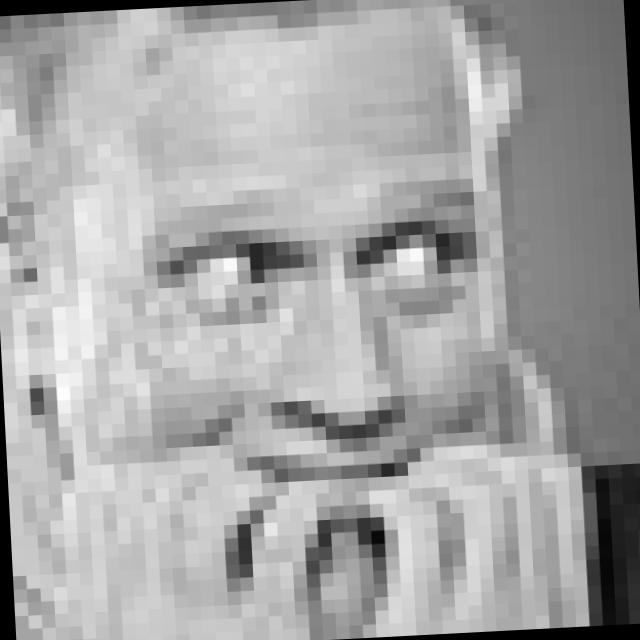fear: (146, 178, 503, 551)
